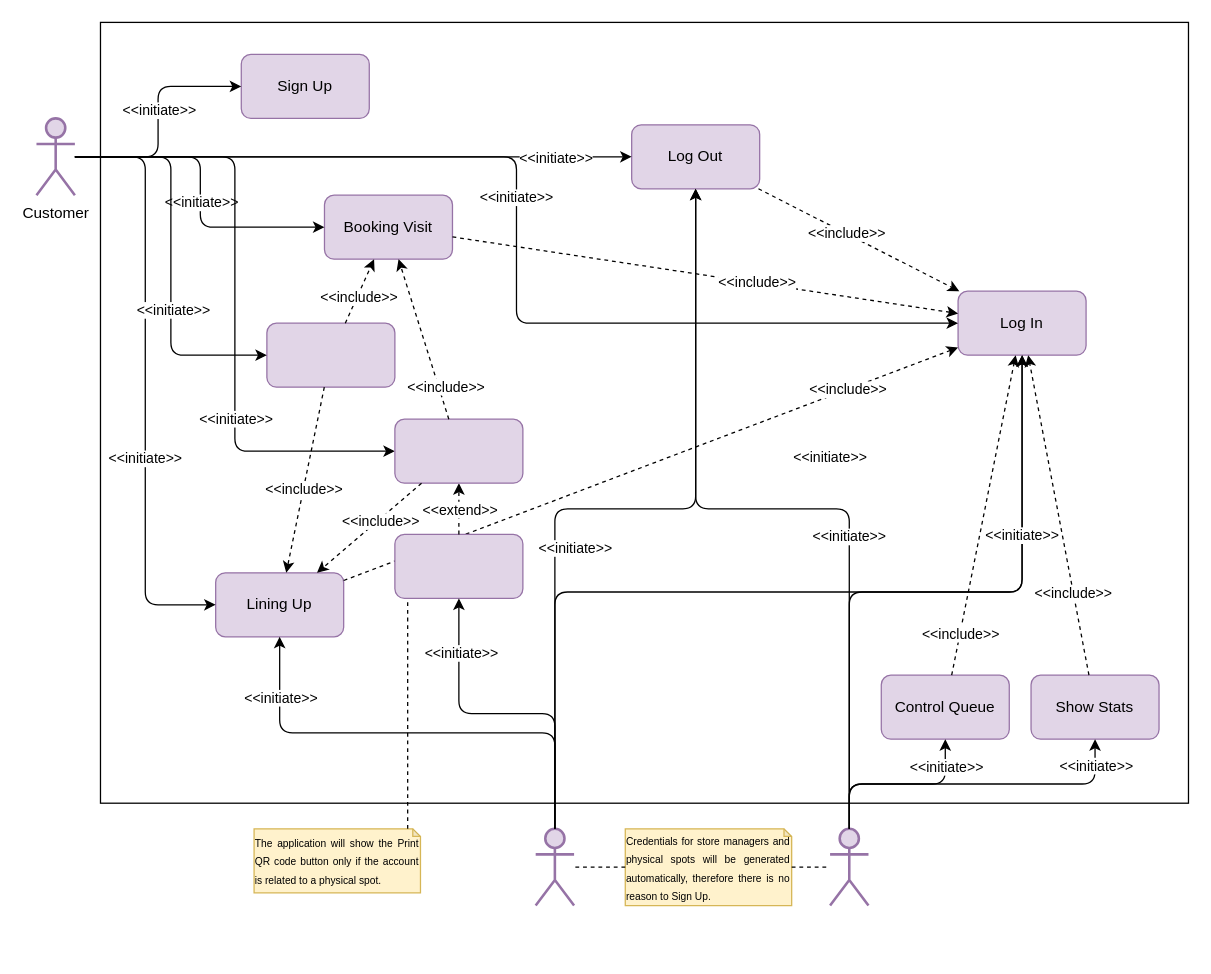
This 1211x974 diagram has some shape labels left out. Each missing label, with the centre of its shape:
"Get Status" goes at (x=330, y=354).
"Physical Spot (proxy)" goes at (x=554, y=866).
"Print QR code" goes at (x=458, y=565).
"Show QR code" goes at (x=458, y=450).
"Store Manager" goes at (x=848, y=866).
